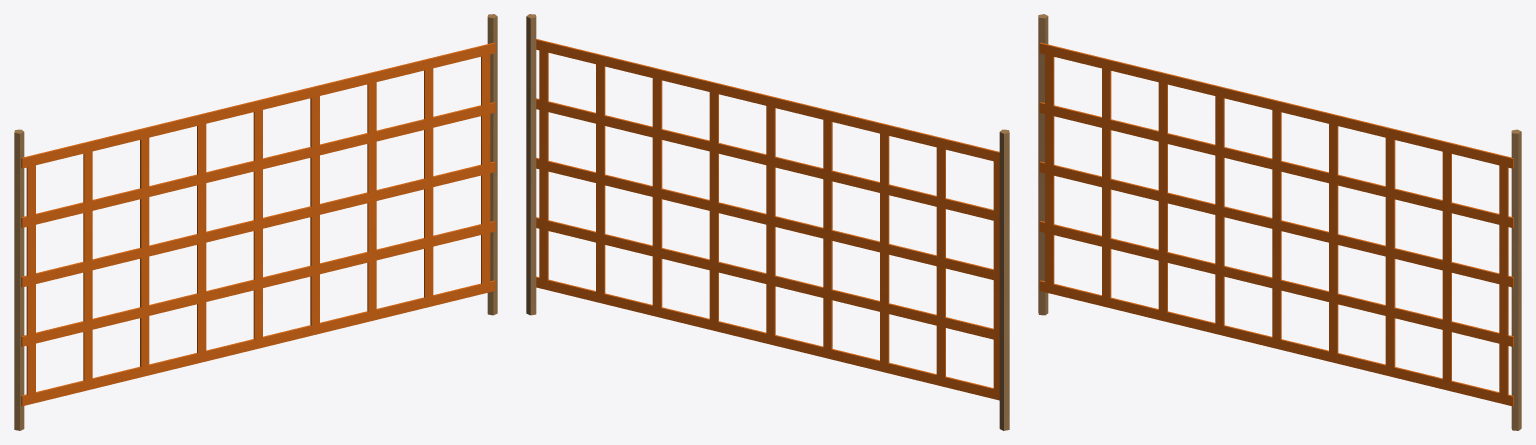
File: cerca_tela.glb
3 renders of one model, left to right at view 1: azimuth 30°, elevation 25°; view 2: azimuth 150°, elevation 25°; view 3: azimuth 330°, elevation 25°, orthographic.
Parts seen in each view (by area): view 1: Inteiro, Peca_01, Peca_00; view 2: Inteiro, Peca_01, Peca_00; view 3: Inteiro, Peca_01, Peca_00.
Part boxes in pixels (x1,y1,x2,y2): Inteiro: (14,14,497,430); Peca_01: (230,14,497,350); Peca_00: (21,108,235,406); Inteiro: (526,14,1009,430); Peca_01: (526,14,799,349); Peca_00: (792,104,999,398); Inteiro: (1038,14,1521,430); Peca_01: (1247,94,1520,430); Peca_00: (1039,43,1254,341).
Bounding box in the file's own units: 2.04 × 1.2 × 0.043.
1 material, 1 textured.
